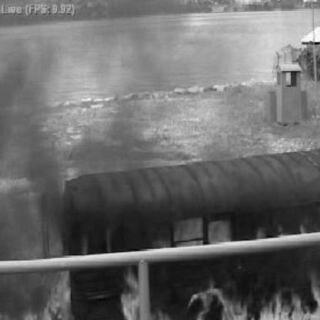Fire: (0, 180, 318, 317)
